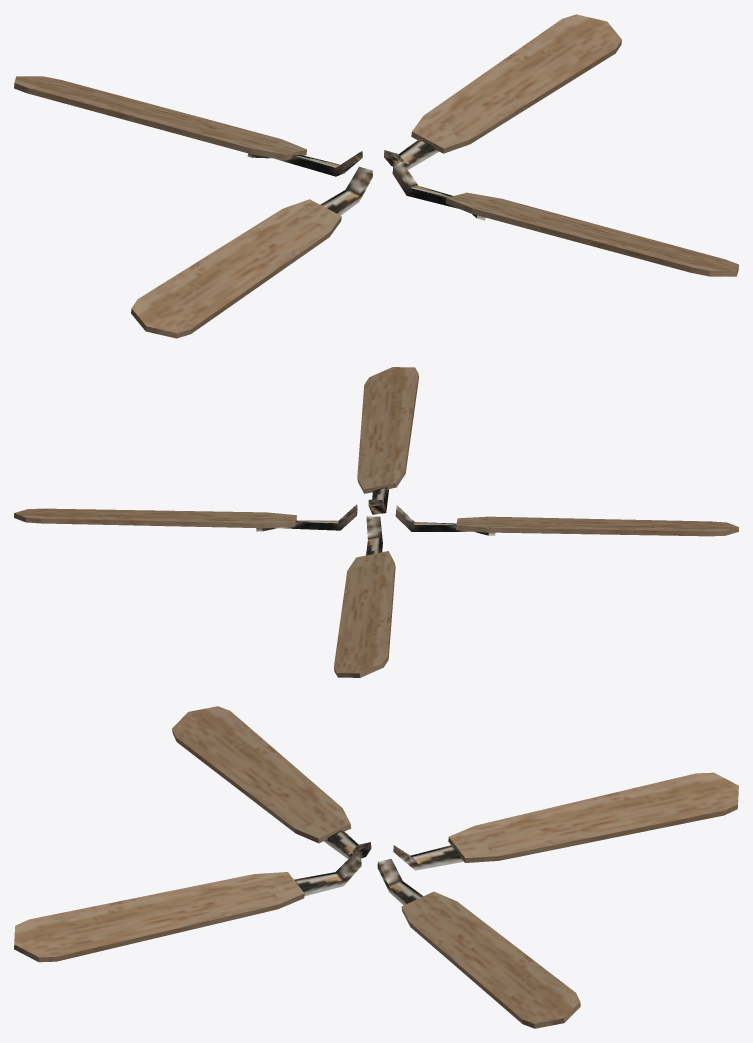
Rendered from Ceiling_Fan_Blades_02-col.glb.
3 views of the same model, one above another, from view 1: azimuth 30°, elevation 25°; view 2: azimuth 150°, elevation 25°; view 3: azimuth 270°, elevation 25° (orthographic). The views are drawn at different scales.
Parts seen in each view (by area): view 1: Ceiling_Fan_Blades_02-col; view 2: Ceiling_Fan_Blades_02-col; view 3: Ceiling_Fan_Blades_02-col.
Part boxes in pixels (left/top/right/bottom): Ceiling_Fan_Blades_02-col: left=14, top=14, right=738, bottom=338; Ceiling_Fan_Blades_02-col: left=14, top=367, right=738, bottom=677; Ceiling_Fan_Blades_02-col: left=14, top=706, right=738, bottom=1028.
Size of the model in its own units: 2.57 by 0.103 by 2.57.
Materials: 1 (1 with a texture image).
